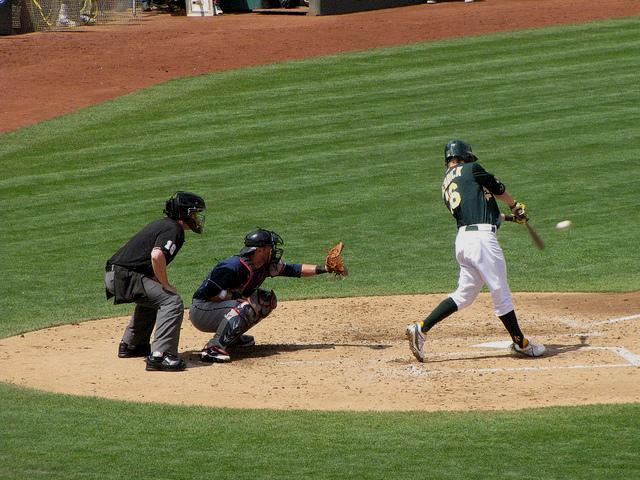bat: (517, 210, 547, 252)
